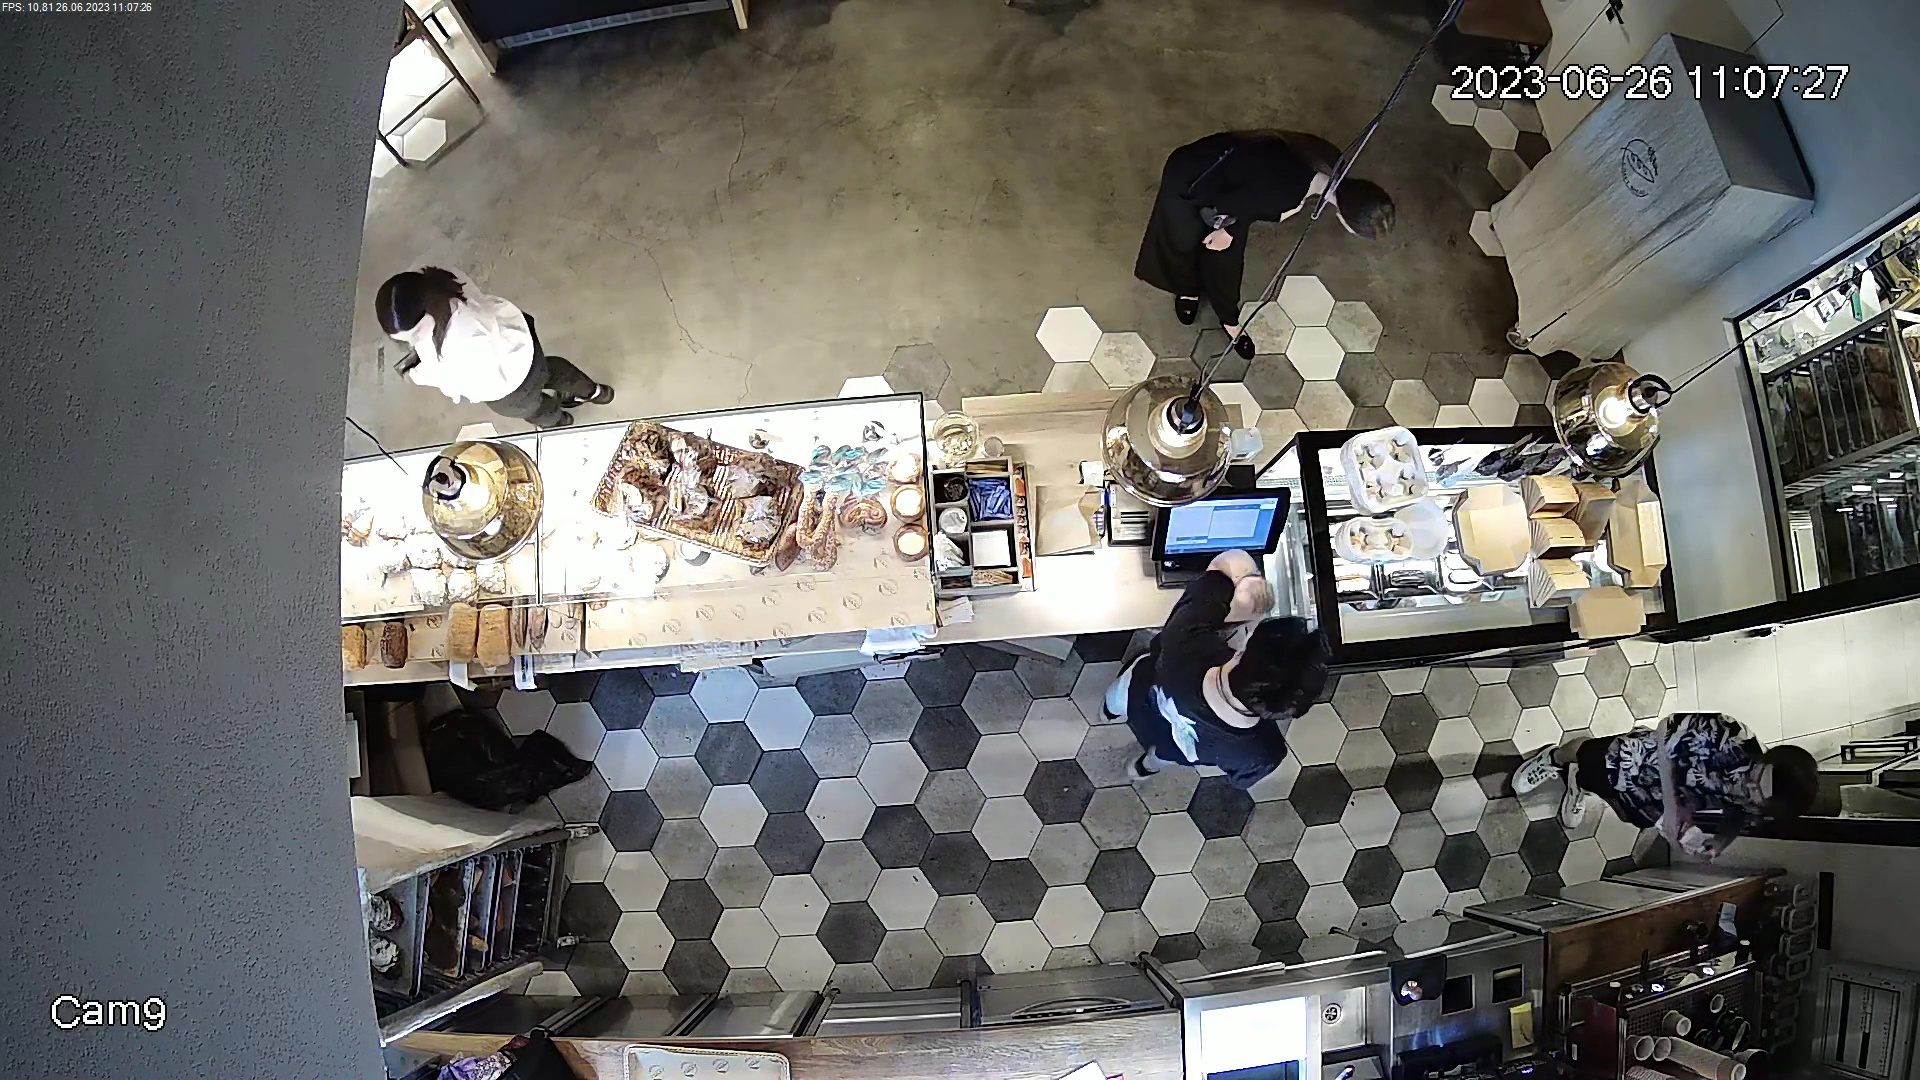barcounter: (344, 430, 1679, 674)
openedcash: (1036, 487, 1102, 554)
person: (1127, 119, 1408, 351)
